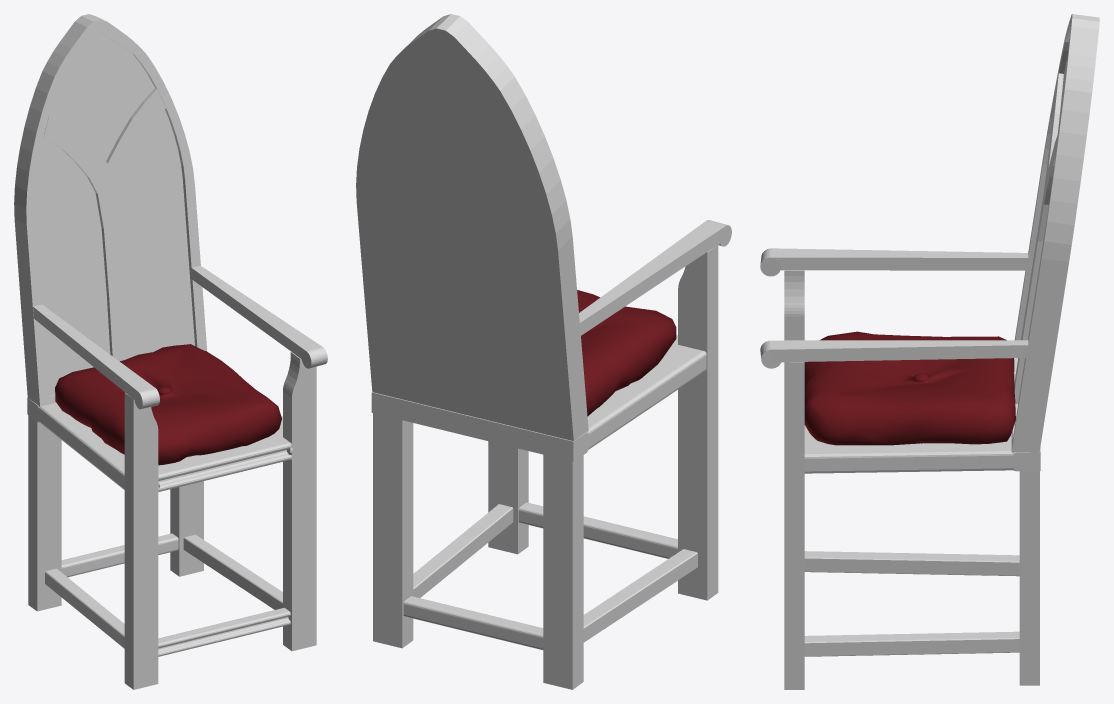
Rendered from Chair.fbx.
The picture shows the model from 3 angles, left to right: view 1: azimuth 30°, elevation 25°; view 2: azimuth 150°, elevation 25°; view 3: azimuth 270°, elevation 25°; orthographic projection. The views are drawn at different scales.
Parts seen in each view (by area): view 1: Seat, Cushion; view 2: Seat, Cushion; view 3: Seat, Cushion.
Part boxes in pixels (box(x1,y1,x2,y2)): Seat: box(14, 14, 327, 689); Cushion: box(55, 344, 281, 465); Seat: box(356, 14, 731, 689); Cushion: box(577, 290, 676, 416); Seat: box(760, 14, 1099, 689); Cushion: box(804, 331, 1015, 445).
Bounding box in the file's own units: 46.24 × 132 × 65.15.
